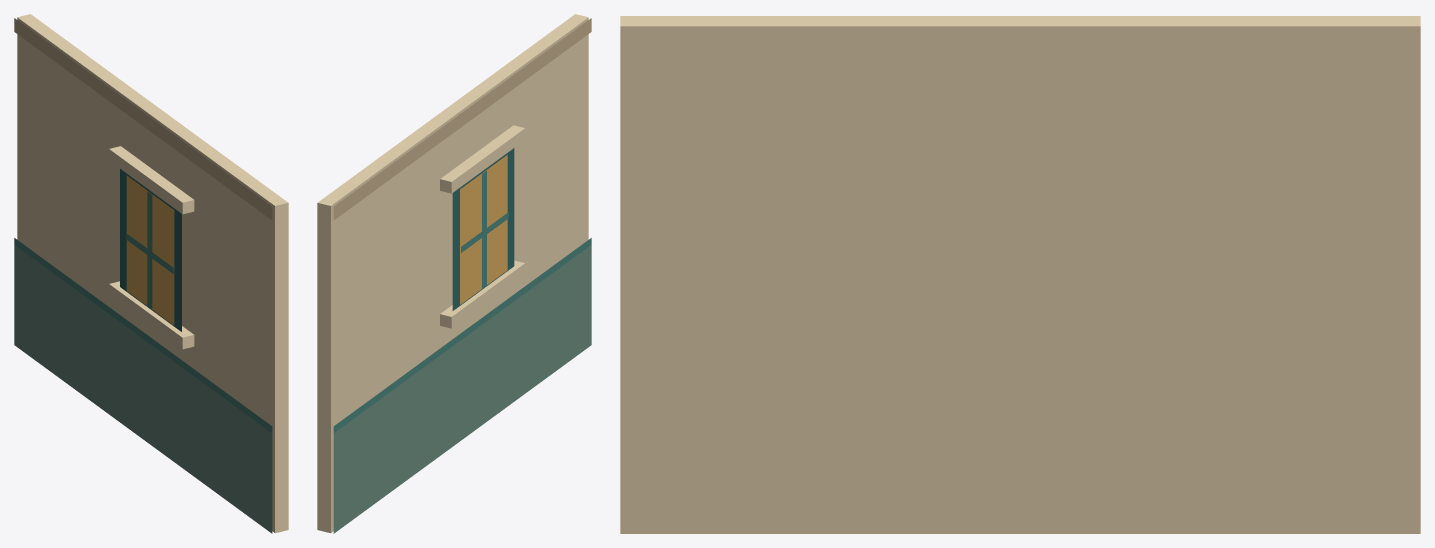
Rendered from east.glb.
3 renders of one model, left to right at view 1: azimuth 30°, elevation 25°; view 2: azimuth 150°, elevation 25°; view 3: azimuth 270°, elevation 25°, orthographic. The views are drawn at different scales.
Visible parts, largest first — view 1: east; view 2: east; view 3: east.
Boxes of the visible parts, x1=… form: east: x1=14, y1=14, x2=288, y2=533; east: x1=317, y1=14, x2=591, y2=533; east: x1=620, y1=16, x2=1420, y2=533.
Size of the model in its own units: 0.25 by 2.8 by 4.
Materials: 1 (1 with a texture image).
